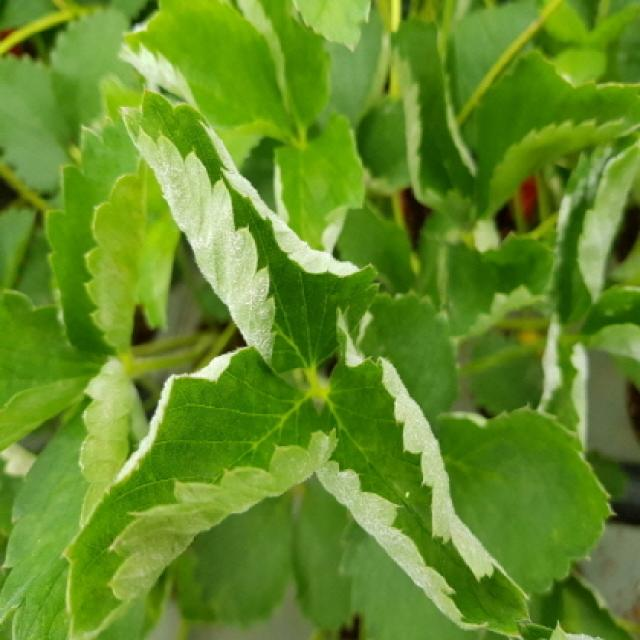Powdery Mildew Leaf: (59, 343, 338, 638), (120, 85, 383, 372), (313, 314, 532, 638), (115, 0, 299, 168), (388, 16, 482, 226), (549, 139, 638, 332), (274, 111, 365, 249), (532, 312, 590, 459)
